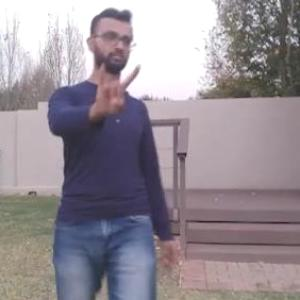takeoff-hand: (88, 54, 144, 117)
